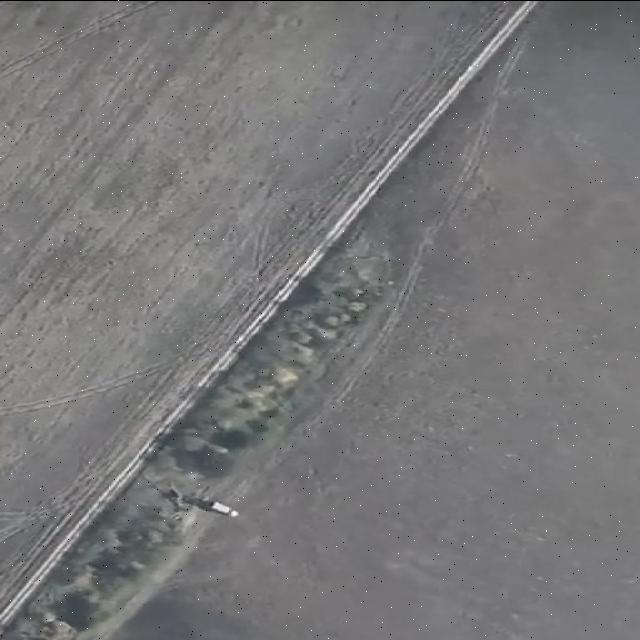ART: (158, 483, 212, 522)
TRUCK: (202, 498, 248, 524)
